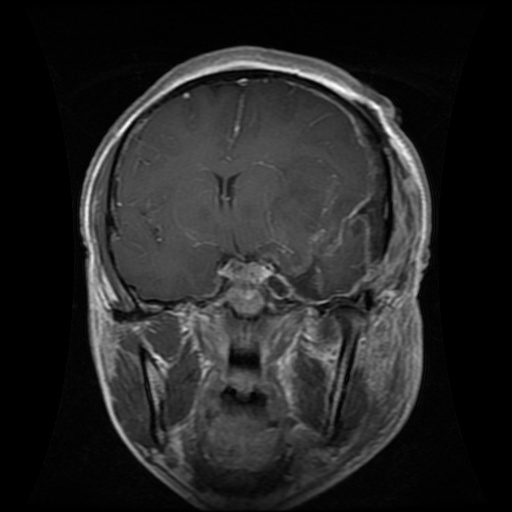glioma: (266, 155, 384, 293)
